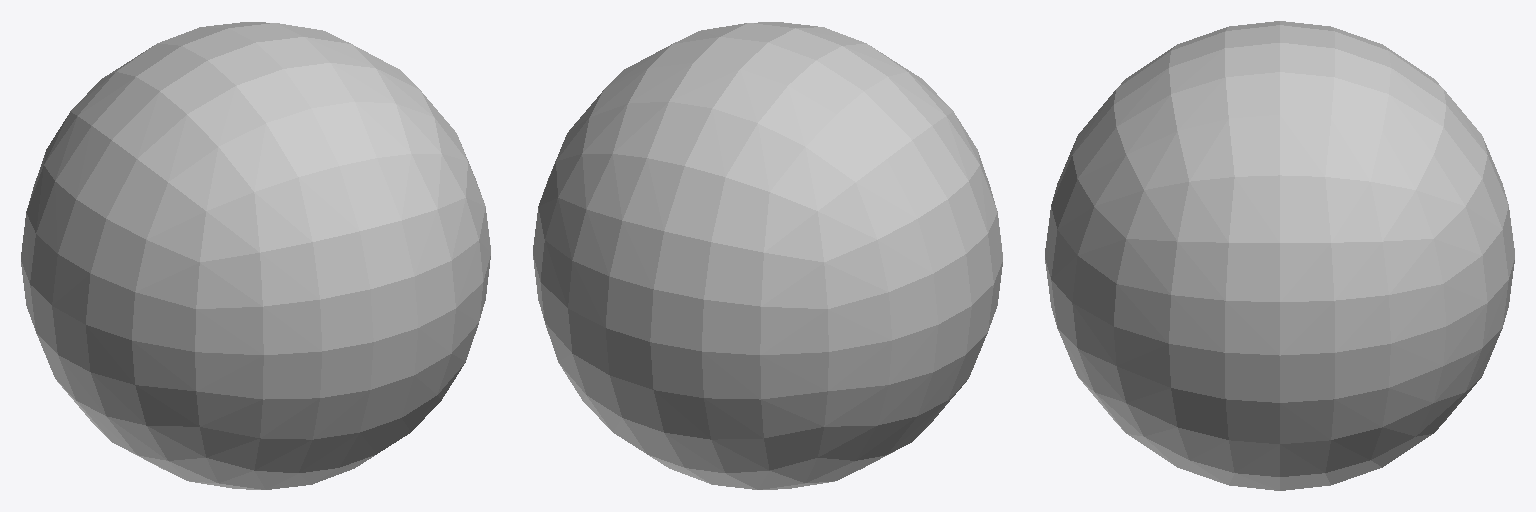
Rendered from scube.obj.
3 renders of one model, left to right at view 1: azimuth 30°, elevation 25°; view 2: azimuth 150°, elevation 25°; view 3: azimuth 270°, elevation 25°, orthographic.
Size of the model in its own units: 2 by 2 by 2.